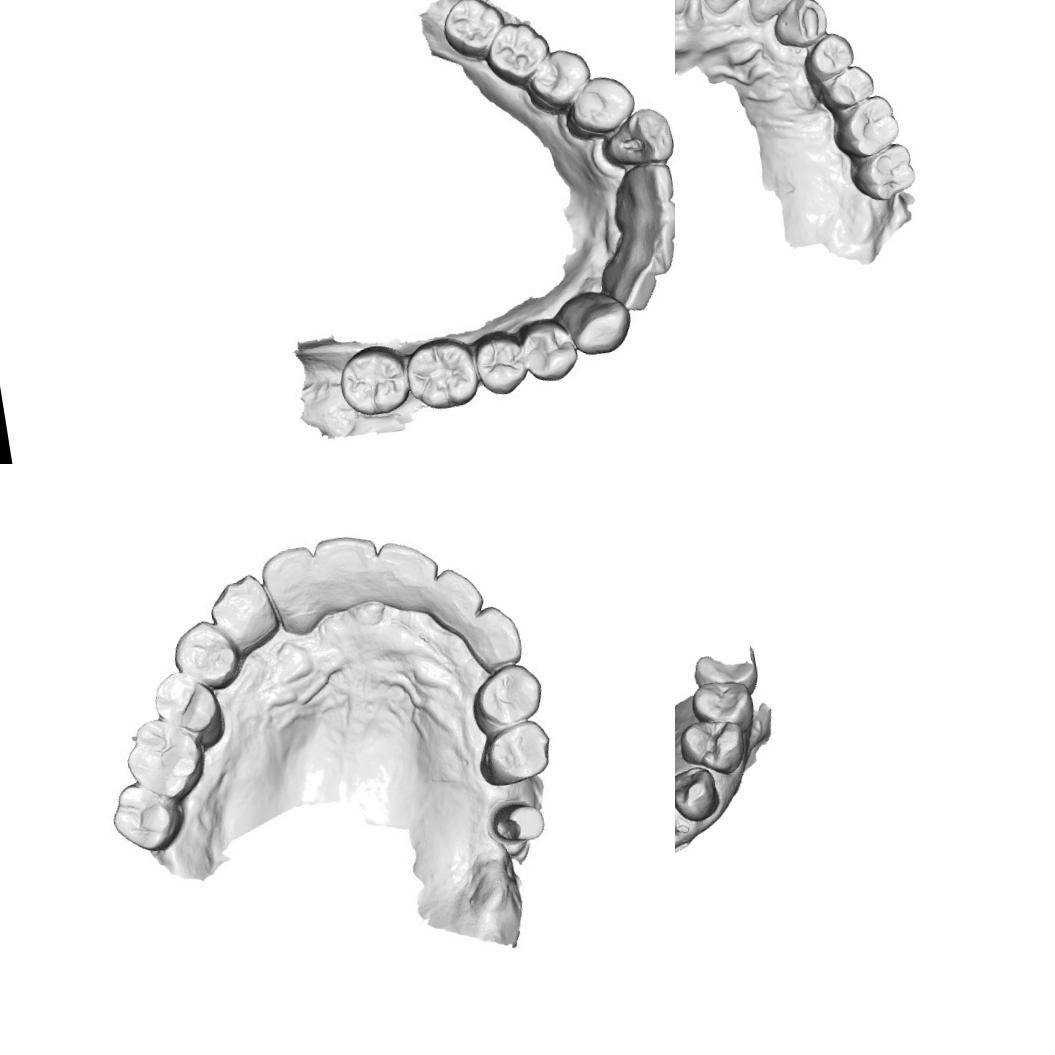abutment: (483, 795, 547, 852)
canine: (209, 574, 282, 658), (593, 102, 675, 170), (560, 286, 634, 359), (462, 603, 524, 673), (766, 0, 832, 53), (675, 762, 724, 827)
incisor: (259, 544, 330, 620), (376, 535, 442, 611), (316, 532, 385, 604), (420, 565, 486, 630), (603, 257, 660, 316), (617, 160, 675, 215), (616, 232, 675, 283), (630, 196, 675, 248), (740, 0, 804, 26), (690, 0, 760, 20)
molar: (122, 716, 205, 799), (402, 332, 483, 414), (334, 340, 412, 421), (108, 778, 184, 853), (479, 14, 559, 85), (826, 92, 904, 164), (846, 138, 920, 206), (435, 0, 511, 63), (693, 647, 768, 702)
premolar: (561, 72, 641, 142), (480, 720, 559, 788), (676, 714, 752, 782), (515, 314, 583, 385), (524, 44, 594, 112), (154, 671, 218, 745), (470, 664, 542, 728), (688, 676, 758, 740), (172, 617, 236, 685), (470, 330, 531, 398), (798, 28, 858, 84), (822, 61, 878, 114)
